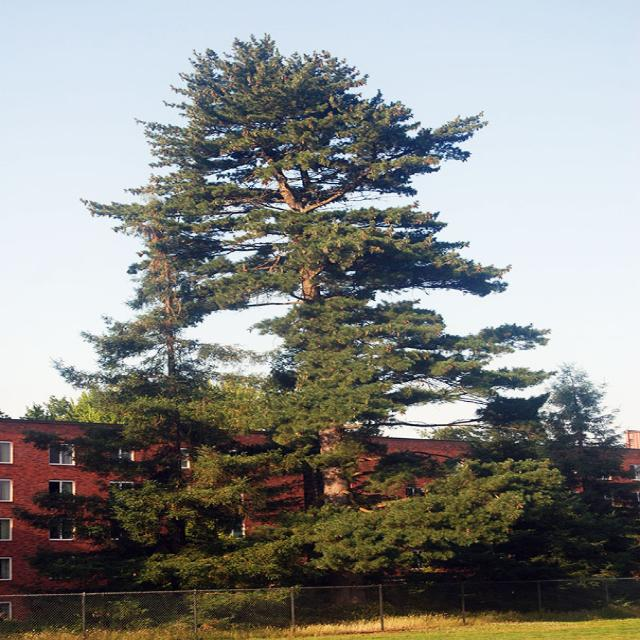Pinus monticola: (95, 34, 574, 604), (30, 186, 260, 606), (470, 372, 627, 596)
